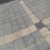zebra: (1, 4, 50, 39)
